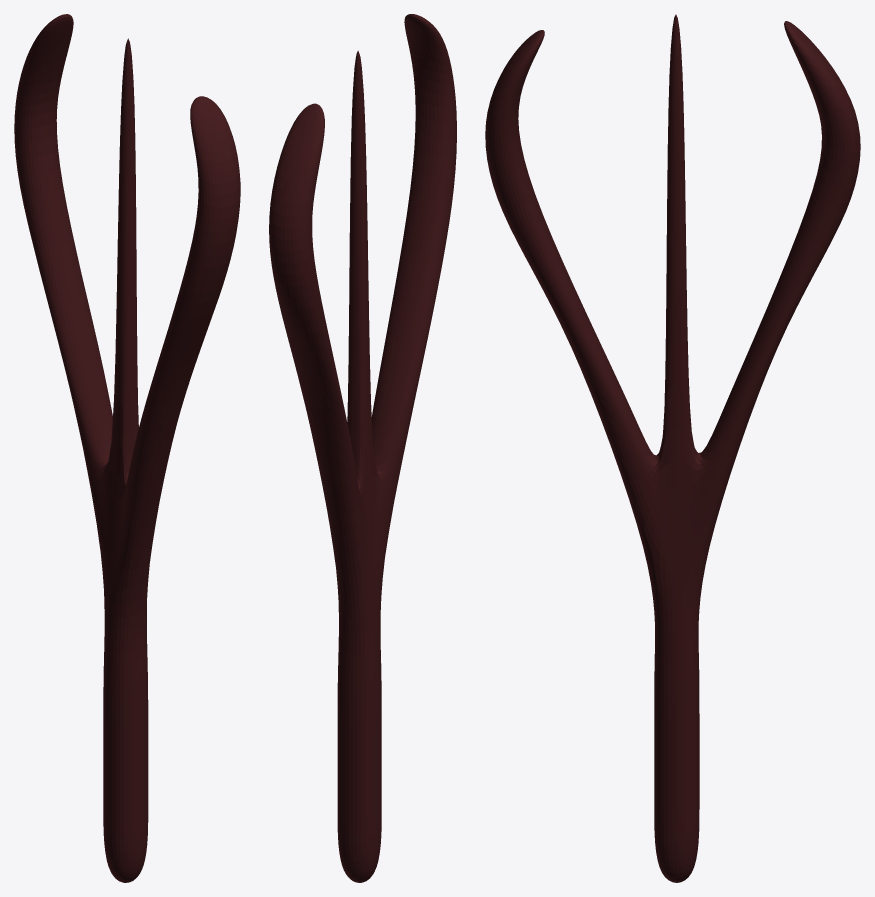
Rendered from claw.fbx.
The picture shows the model from 3 angles, left to right: view 1: azimuth 30°, elevation 25°; view 2: azimuth 150°, elevation 25°; view 3: azimuth 270°, elevation 25°; orthographic projection. The views are drawn at different scales.
Visible parts, largest first — view 1: Cube; view 2: Cube; view 3: Cube.
Part boxes in pixels (<box>): Cube: <box>14,14,240,882</box>; Cube: <box>269,14,456,882</box>; Cube: <box>485,14,860,882</box>.
Size of the model in its own units: 13.06 by 175 by 68.53.
